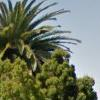Palm tree: (2, 2, 63, 76)
